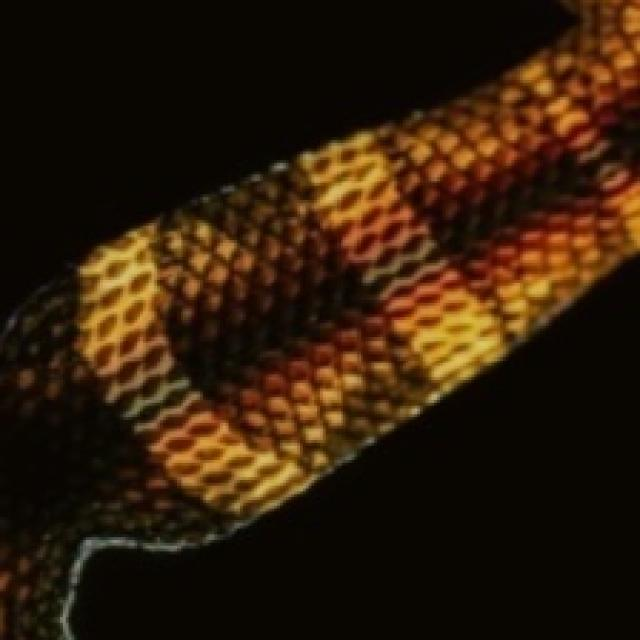king cobra: (0, 0, 637, 637)
